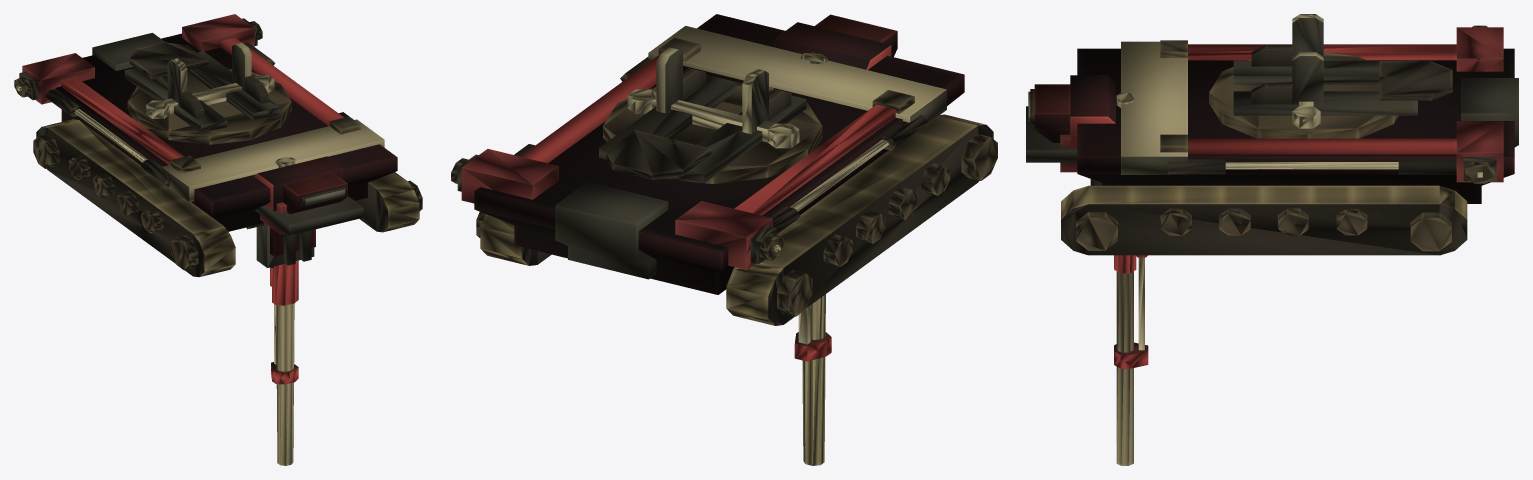
Rendered from Light Tank.fbx.
The picture shows the model from 3 angles, left to right: view 1: azimuth 30°, elevation 25°; view 2: azimuth 150°, elevation 25°; view 3: azimuth 270°, elevation 25°; orthographic projection. The views are drawn at different scales.
Visible parts, largest first — view 1: unit_Tank_Special_Harnok_A_Body, unit_Tank_Special_Harnok_A_Turret, unit_Tank_Special_Harnok_A_Weapon; view 2: unit_Tank_Special_Harnok_A_Body, unit_Tank_Special_Harnok_A_Turret, unit_Tank_Special_Harnok_A_Weapon; view 3: unit_Tank_Special_Harnok_A_Body, unit_Tank_Special_Harnok_A_Turret, unit_Tank_Special_Harnok_A_Weapon.
Part boxes in pixels (x1=…): unit_Tank_Special_Harnok_A_Body: x1=14, y1=14, x2=422, y2=277; unit_Tank_Special_Harnok_A_Turret: x1=124, y1=42, x2=291, y2=144; unit_Tank_Special_Harnok_A_Weapon: x1=246, y1=157, x2=315, y2=465; unit_Tank_Special_Harnok_A_Body: x1=451, y1=14, x2=997, y2=325; unit_Tank_Special_Harnok_A_Turret: x1=599, y1=47, x2=822, y2=184; unit_Tank_Special_Harnok_A_Weapon: x1=794, y1=52, x2=831, y2=465; unit_Tank_Special_Harnok_A_Body: x1=1026, y1=25, x2=1518, y2=255; unit_Tank_Special_Harnok_A_Turret: x1=1209, y1=14, x2=1452, y2=138; unit_Tank_Special_Harnok_A_Weapon: x1=1090, y1=92, x2=1148, y2=465.
Bounding box in the file's own units: 7.64 × 10.69 × 11.17.
